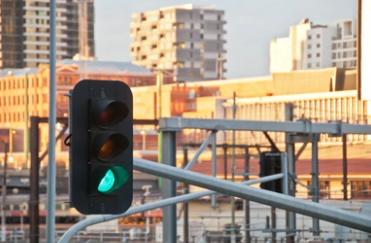green_light: (71, 79, 133, 214)
